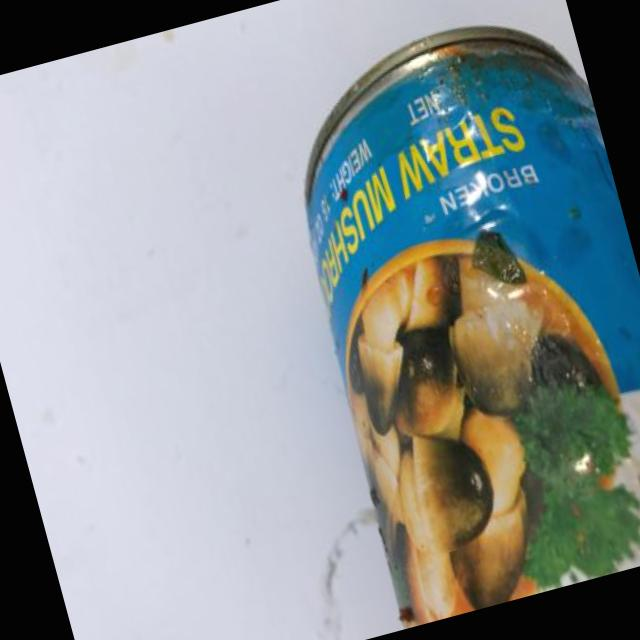kim_loai: (305, 25, 640, 627)
